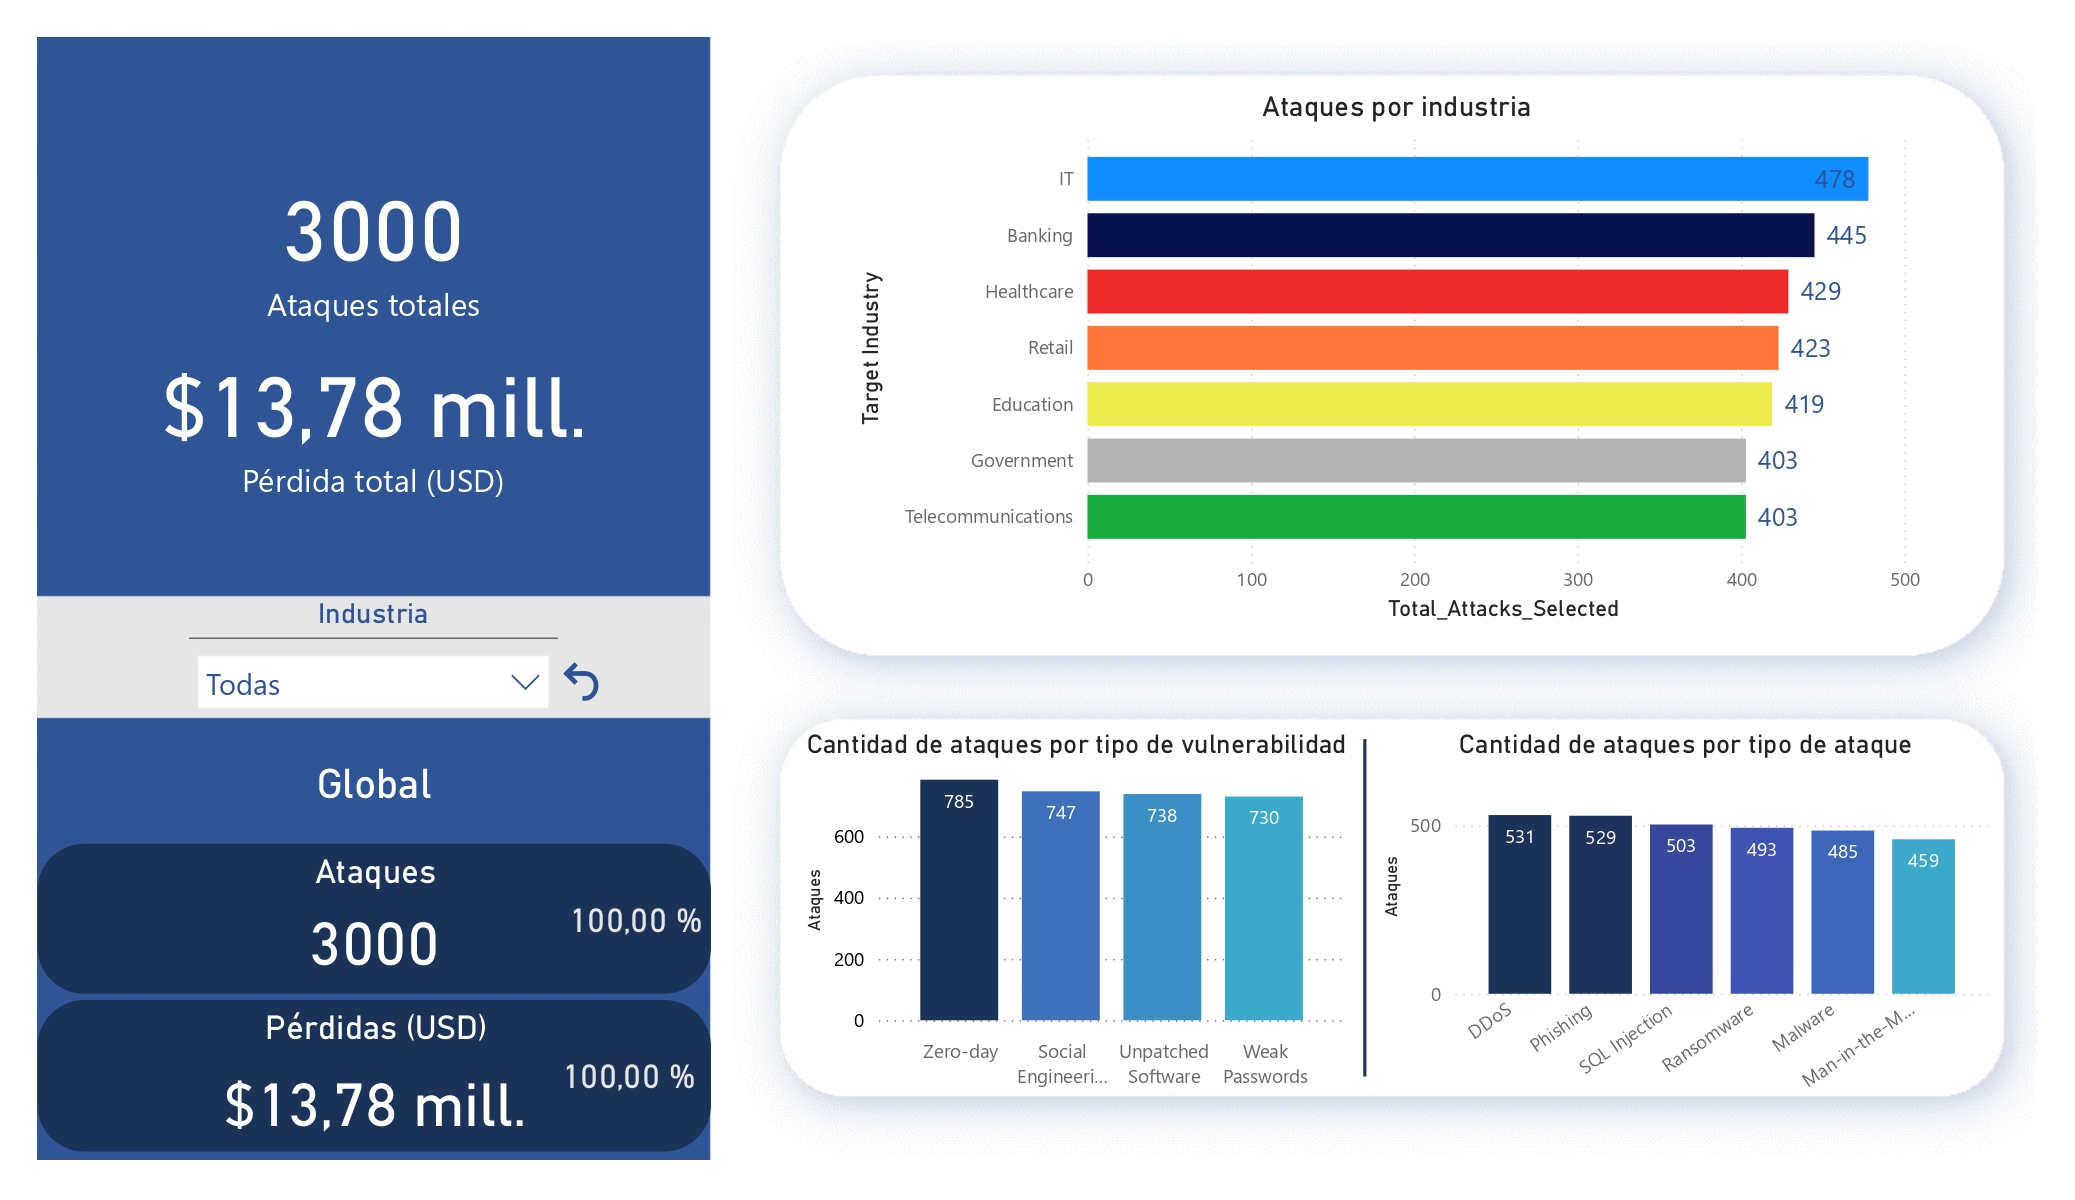

The dashboard page shown, as its layout file describes it:
{"tool":"powerbi","page":{"name":"Dashboard","canvas":[1280,720],"ordinal":0},"visuals":[{"type":"card","fields":{"Values":["Metricas.Total_Loss"]},"box":[69.9,186.9,289.7,112.7],"z":1000},{"type":"barChart","title":"Ataques por industria","fields":{"Category":["Global_Cybersecurity_Threats_2015-2024.Target Industry"],"Y":["Metricas.Total_Attacks_Selected"]},"box":[520,33.3,700,345],"z":2000},{"type":"card","title":"ATAQUES TOTALES","fields":{"Values":["Metricas.Total_Attacks"]},"box":[69.9,74.2,289.7,112.7],"z":3000},{"type":"slicer","title":"Industria","fields":{"Values":["Global_Cybersecurity_Threats_2015-2024.Target Industry"]},"box":[91.8,357.6,246.5,74.1],"z":4000},{"type":"columnChart","title":"Cantidad de ataques por tipo de vulnerabilidad","fields":{"Category":["Global_Cybersecurity_Threats_2015-2024.Security Vulnerability Type"],"Y":["Metricas.Total_Attacks_Selected"]},"box":[486.7,441.7,356.7,238.3],"z":5000},{"type":"card","title":"Ataques","fields":{"Values":["Metricas.Total_Attacks_Selected"]},"box":[0,515.7,431.4,96.4],"z":6000},{"type":"card","title":"Pérdidas (USD)","fields":{"Values":["Metricas.Total_Loss"]},"box":[0,616.4,431.4,96.4],"z":7000},{"type":"columnChart","title":"Cantidad de ataques por tipo de ataque","fields":{"Y":["Metricas.Total_Attacks_Selected"],"Category":["Global_Cybersecurity_Threats_2015-2024.Attack Type"]},"box":[856.1,442.2,398.3,238.1],"z":8000},{"type":"shape","box":[843,449,13,216],"z":9000},{"type":"card","fields":{"Values":["Metricas.Industry_Attack_Selection"]},"box":[0,435.7,431.4,80],"z":10000},{"type":"card","fields":{"Values":["Metricas.&Total_Loss_Selected"]},"box":[326.4,616.4,105,96.4],"z":11000},{"type":"card","fields":{"Values":["Metricas.%Total_Attacks_Selected"]},"box":[327.1,515.7,111.4,97.1],"z":12000},{"type":"actionButton","box":[330.8,394.5,35.8,34.5],"z":13000}]}

Visuals, with their boxes in screenshot pixels (x1, y1, x2, y2):
card - Metricas.Total_Loss: (left=147, top=330, right=599, bottom=506)
"Ataques por industria" barChart: (left=850, top=90, right=1944, bottom=629)
"ATAQUES TOTALES" card: (left=147, top=153, right=599, bottom=330)
"Industria" slicer: (left=181, top=596, right=566, bottom=712)
"Cantidad de ataques por tipo de vulnerabilidad" columnChart: (left=798, top=728, right=1355, bottom=1100)
"Ataques" card: (left=38, top=843, right=712, bottom=994)
"Pérdidas (USD)" card: (left=38, top=1001, right=712, bottom=1151)
"Cantidad de ataques por tipo de ataque" columnChart: (left=1375, top=728, right=1998, bottom=1100)
shape: (left=1355, top=739, right=1375, bottom=1077)
card - Metricas.Industry_Attack_Selection: (left=38, top=718, right=712, bottom=843)
card - Metricas.&Total_Loss_Selected: (left=548, top=1001, right=712, bottom=1151)
card - Metricas.%Total_Attacks_Selected: (left=549, top=843, right=723, bottom=995)
actionButton: (left=554, top=654, right=610, bottom=708)
